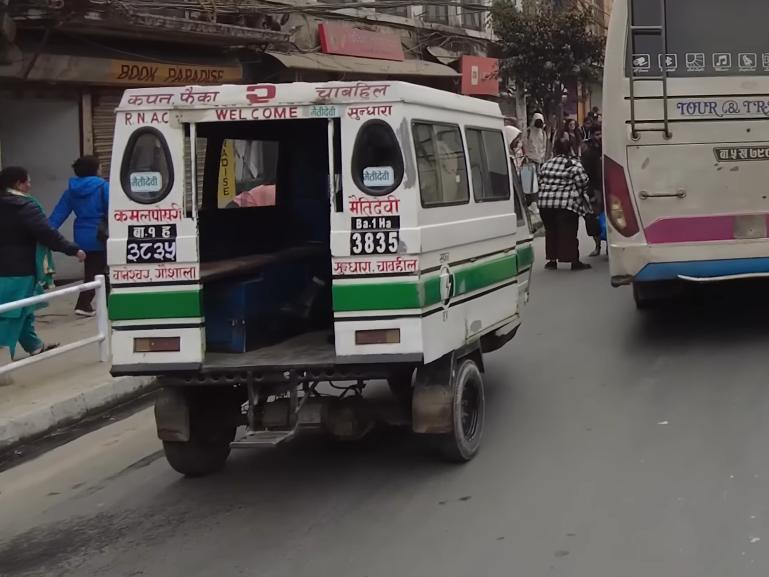bus: (594, 0, 769, 328)
tempo: (99, 83, 538, 474)
